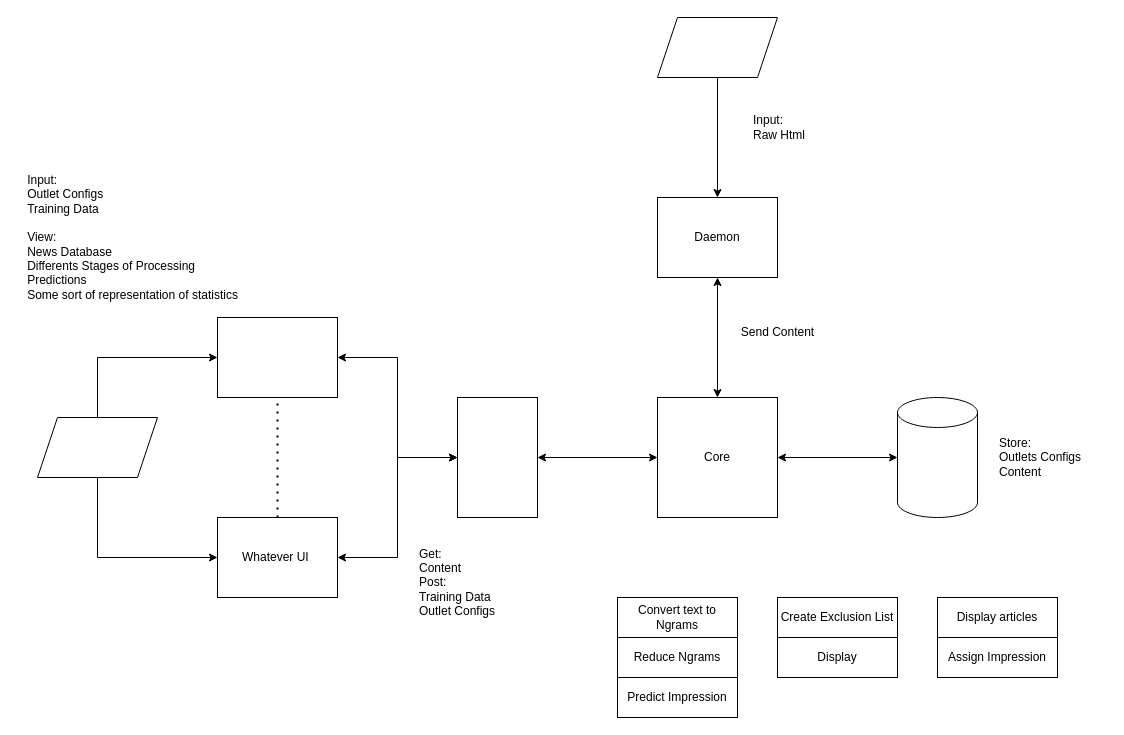
The diagram is 1124 pixels wide and 735 high, and some of its shapes have lost their labels. Each missing label, with the centre of its shape:
"Api" belongs at pixel 497 457.
"News Outlets" belongs at pixel 717 47.
"SQL" belongs at pixel 937 457.
"User" belongs at pixel 97 447.
"Web UI" belongs at pixel 277 357.
